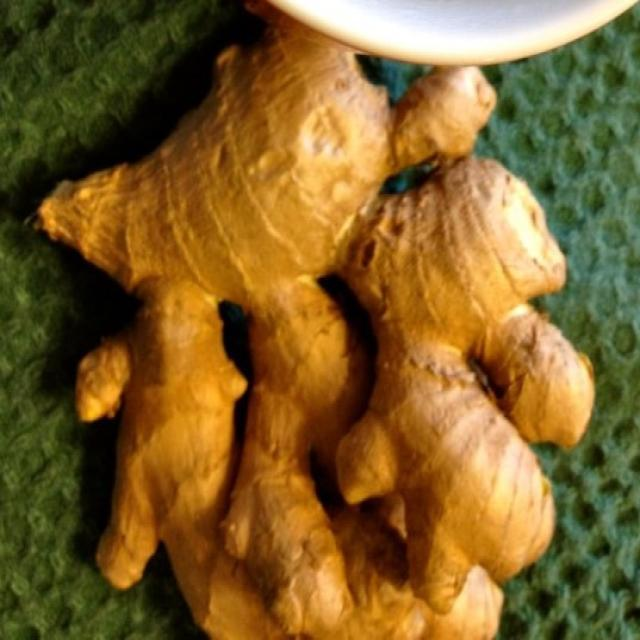ginger: (18, 12, 613, 640)
